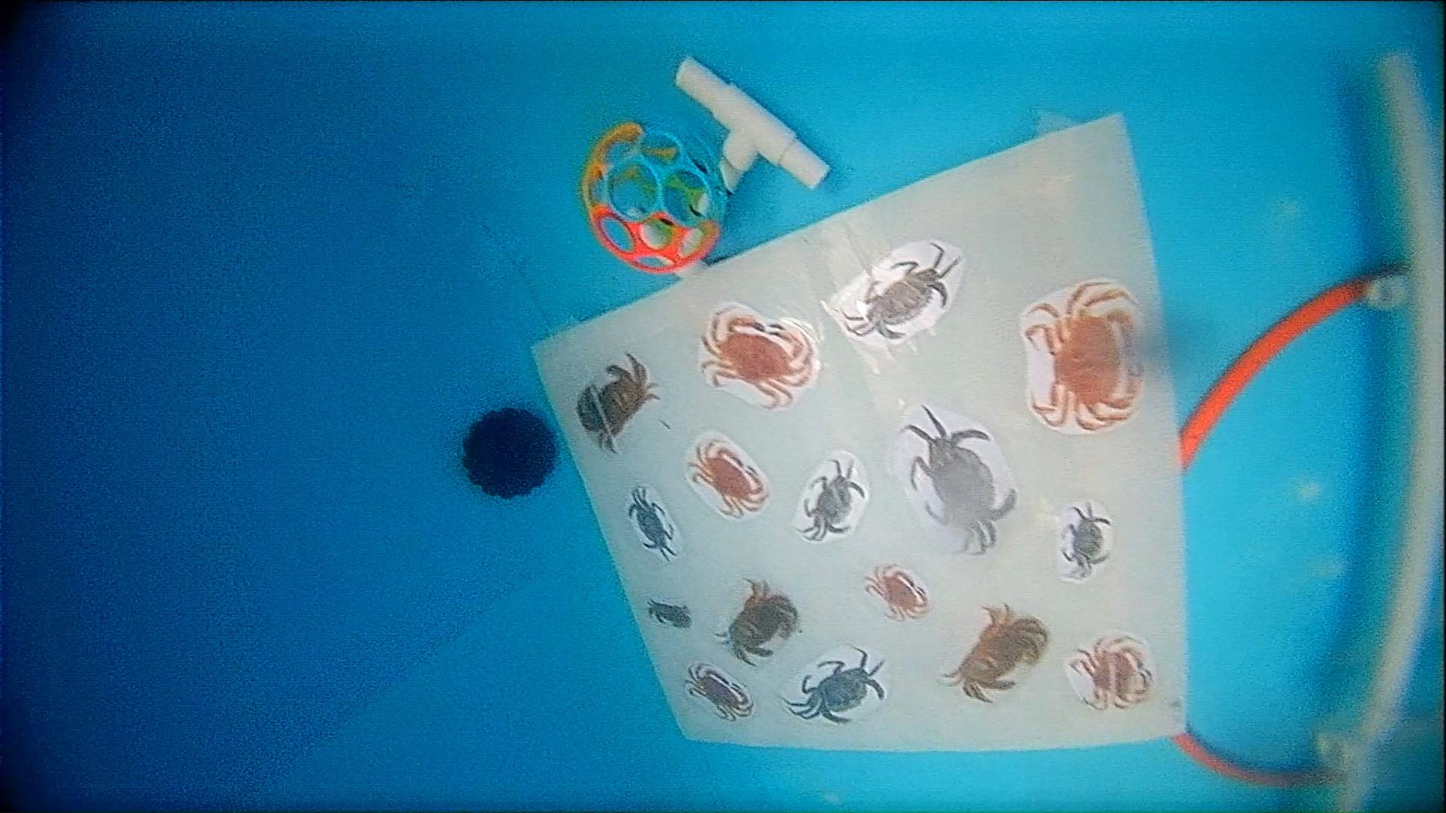GreenCrab: (905, 406, 1017, 553), (846, 243, 959, 339), (789, 647, 884, 723), (798, 461, 866, 540), (1061, 507, 1111, 578), (628, 486, 676, 558)
